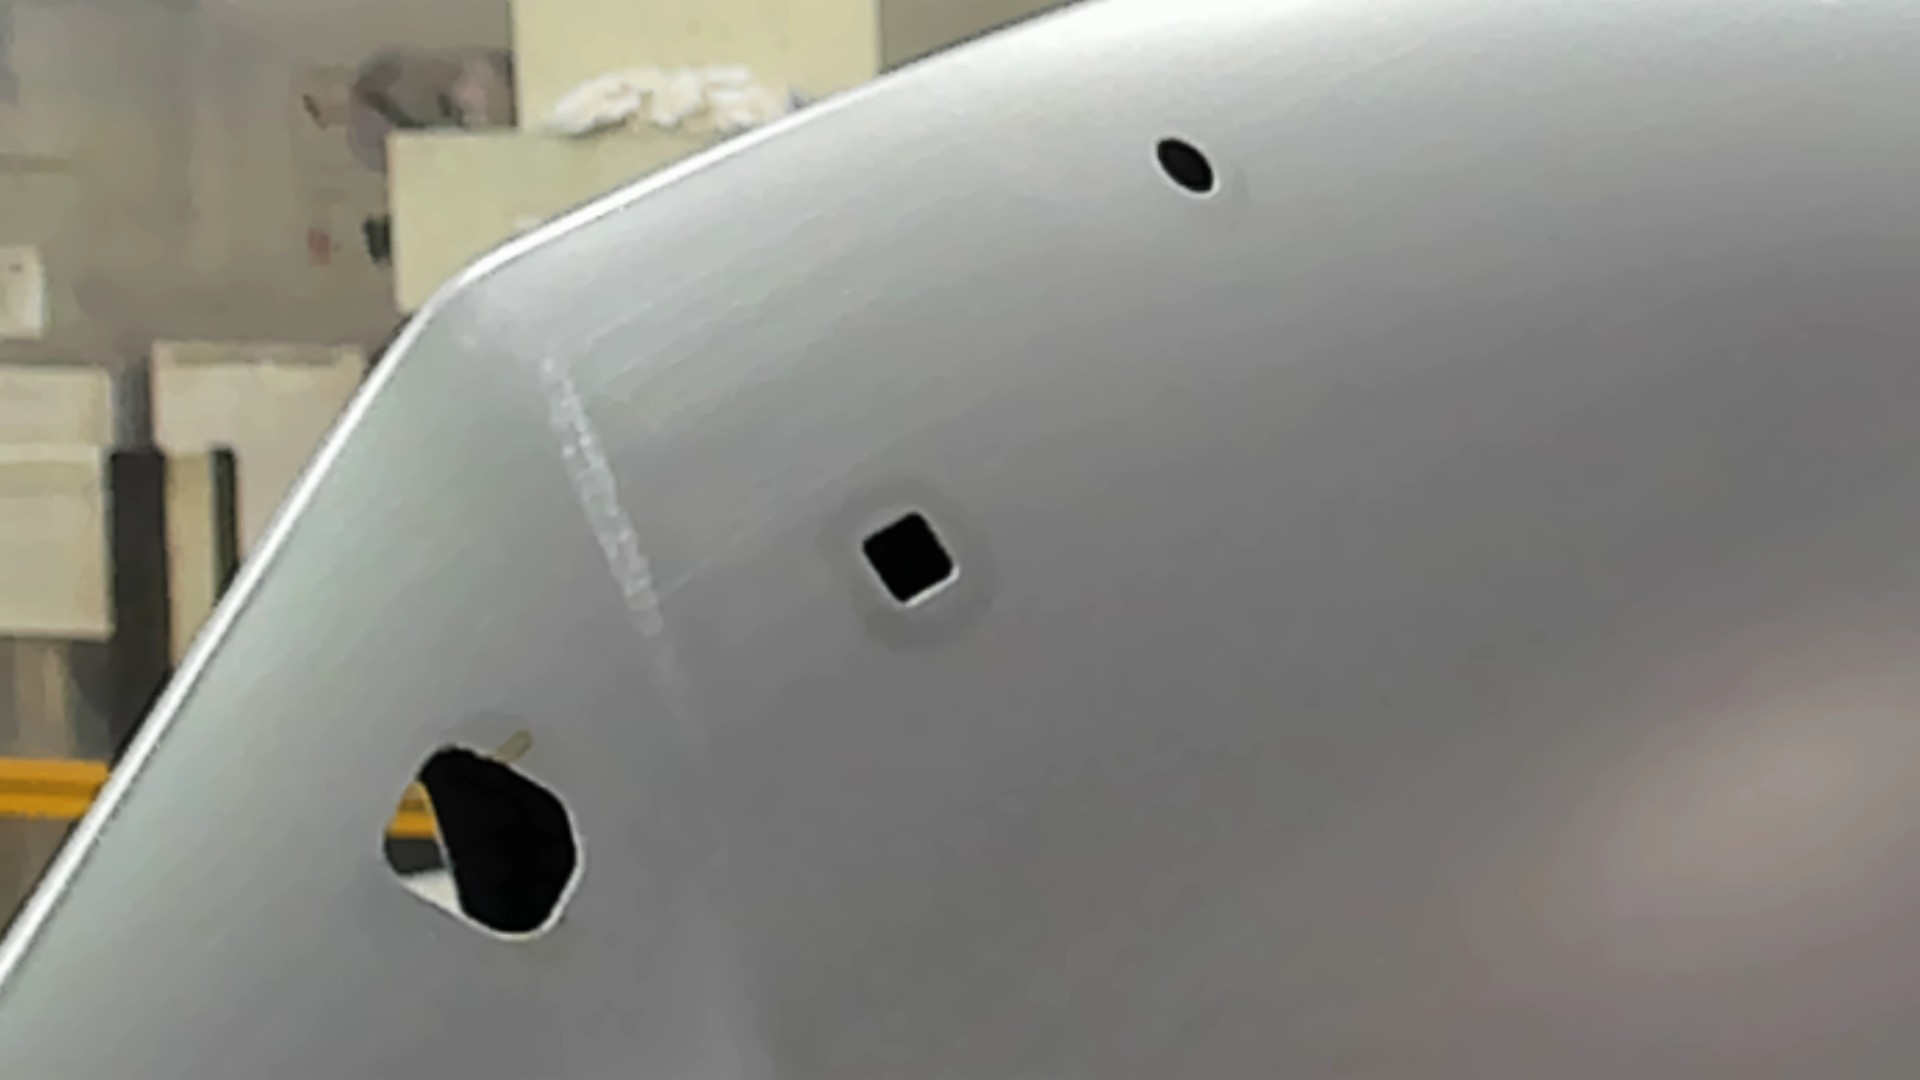capo: (965, 200, 1920, 1080)
chico: (1153, 133, 1216, 196)
grande: (377, 737, 584, 949)
mediano: (852, 505, 964, 617)
